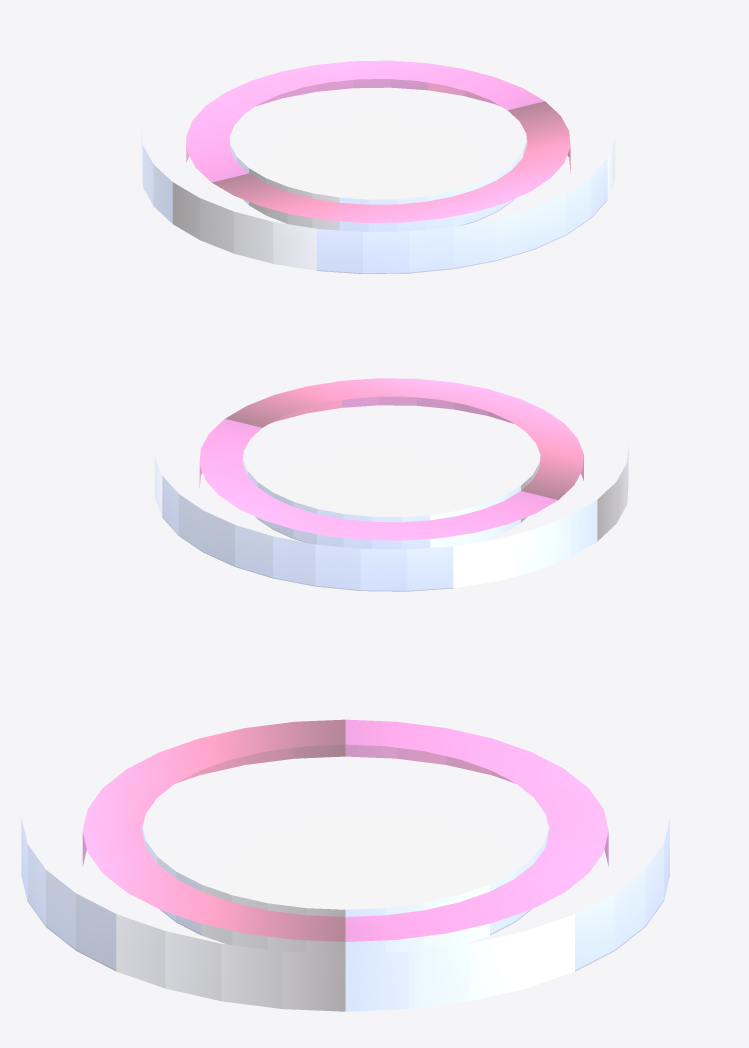
Rendered from level.gltf.
3 views of the same model, one above another, from view 1: azimuth 30°, elevation 25°; view 2: azimuth 150°, elevation 25°; view 3: azimuth 270°, elevation 25° (orthographic). The views are drawn at different scales.
Visible parts, largest first — view 1: P_Trafo_Sticky_MF, P_Trafo_Sticky_Shadow; view 2: P_Trafo_Sticky_MF, P_Trafo_Sticky_Shadow; view 3: P_Trafo_Sticky_MF, P_Trafo_Sticky_Shadow.
Part boxes in pixels (x1=…): P_Trafo_Sticky_MF: x1=141, y1=60, x2=615, y2=273; P_Trafo_Sticky_Shadow: x1=173, y1=88, x2=575, y2=223; P_Trafo_Sticky_MF: x1=154, y1=378, x2=628, y2=591; P_Trafo_Sticky_Shadow: x1=175, y1=414, x2=575, y2=541; P_Trafo_Sticky_MF: x1=21, y1=719, x2=669, y2=1011; P_Trafo_Sticky_Shadow: x1=99, y1=765, x2=646, y2=943.
Bounding box in the file's own units: 5.48 × 0.504 × 5.48.
Materials: 3 (3 with a texture image).
